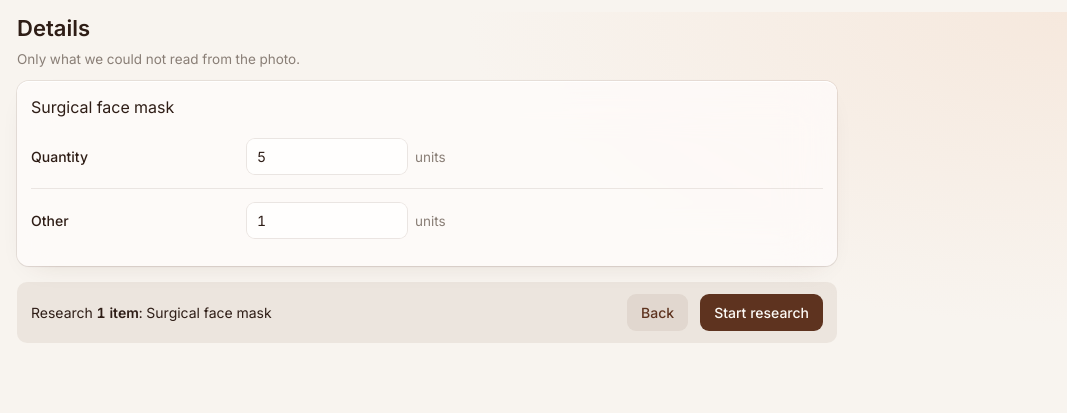
Test case: DetailsStep › editing one field clears only that field start error
Step 1. Click the button "Start research" → (762, 313), box [700,294,823,331]
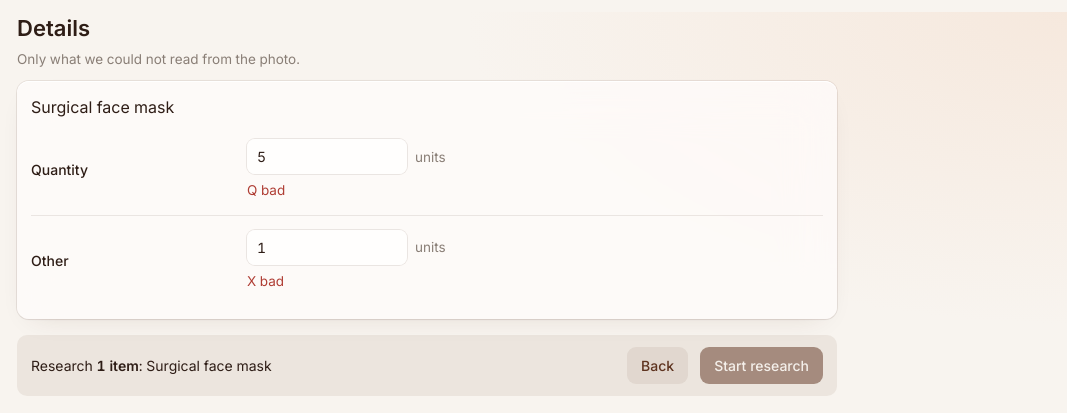
expect the text "Q bad" is shown: met, box [247,182,285,198]
Step 2. Type "1" into the field labelled "Quantity" → (327, 157), box [247,139,407,174]
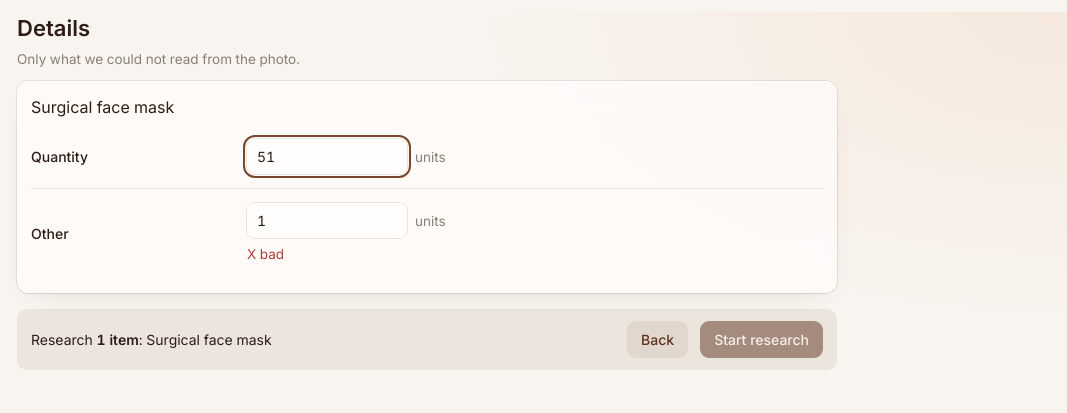
expect the text "X bad" is shown: met, box [247,246,284,262]
expect the text "Q bad" is gone: met
